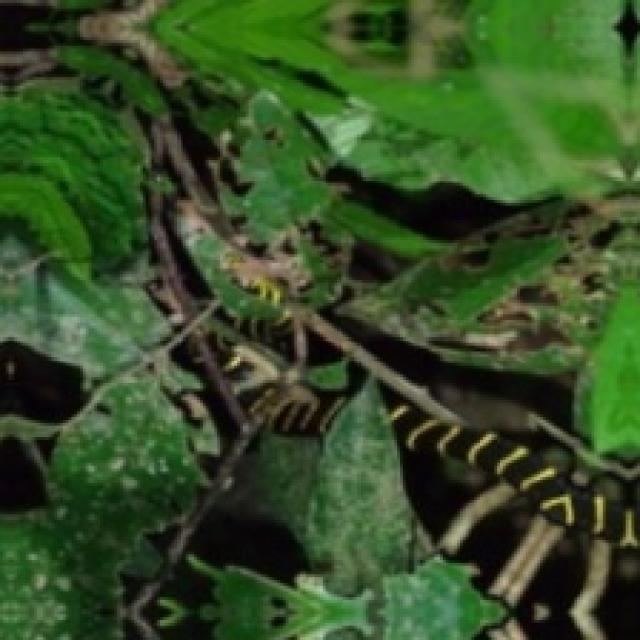mangrove cat snake: (389, 400, 640, 541), (254, 388, 338, 436)
